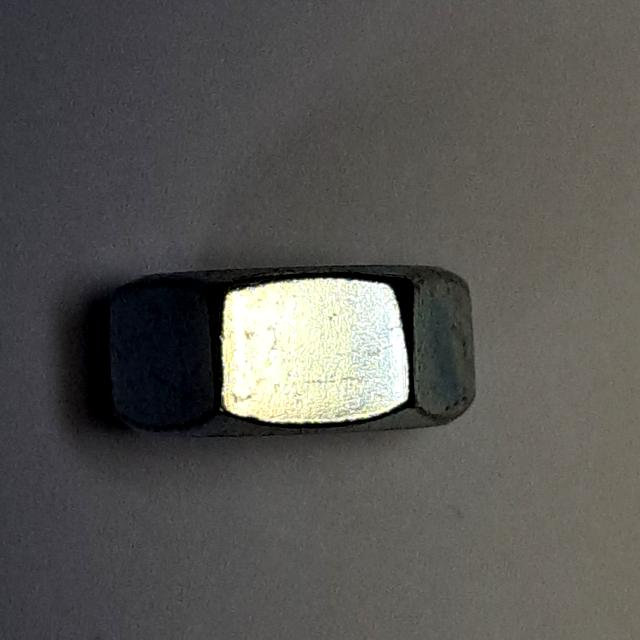Side_Excellent: (100, 256, 483, 455)
